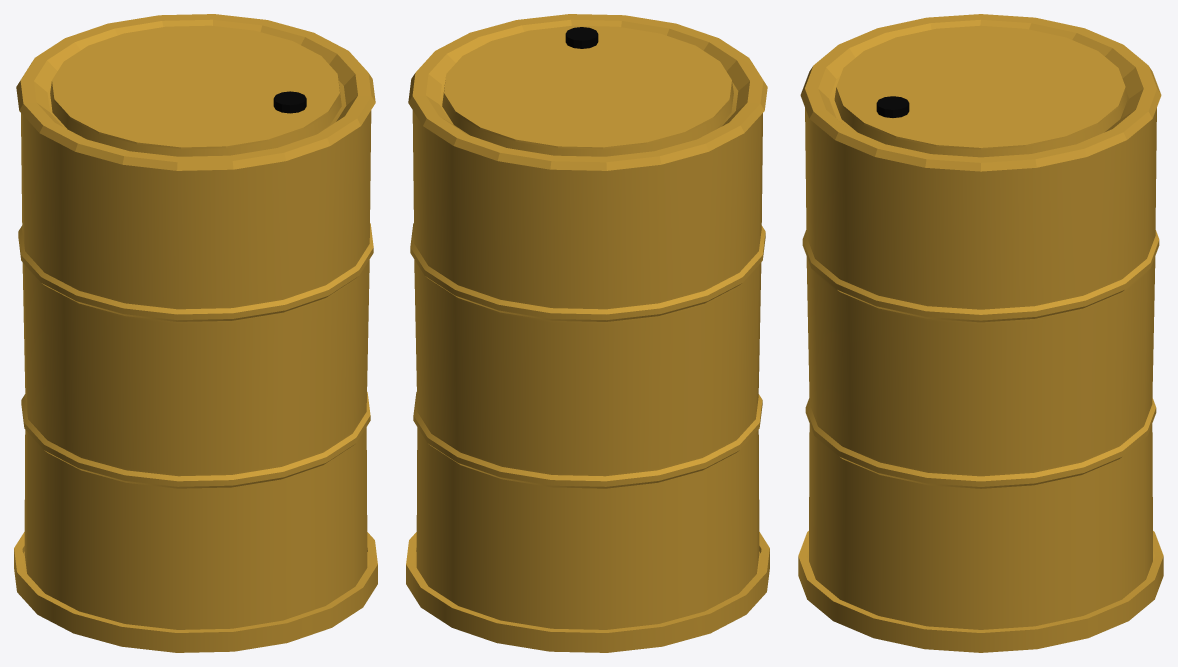
Rendered from Yellow_Oil_Barrel.glb.
3 renders of one model, left to right at view 1: azimuth 30°, elevation 25°; view 2: azimuth 150°, elevation 25°; view 3: azimuth 270°, elevation 25°, orthographic.
Parts seen in each view (by area): view 1: black_oil_barrel; view 2: black_oil_barrel; view 3: black_oil_barrel.
Part boxes in pixels (left/top/right/bottom): black_oil_barrel: left=14, top=14, right=377, bottom=652; black_oil_barrel: left=406, top=14, right=769, bottom=652; black_oil_barrel: left=798, top=14, right=1163, bottom=652.
Size of what is drawn, in the model's own units: 0.7776 by 1.17 by 0.7776.
Materials: 1 (1 with a texture image).
